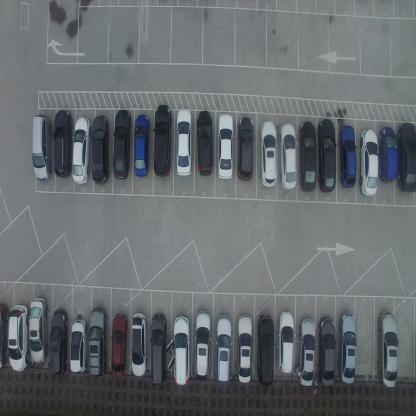car: (376, 310, 398, 388), (52, 109, 74, 178), (152, 104, 172, 178), (7, 304, 29, 371), (31, 113, 52, 182), (317, 117, 336, 193), (337, 312, 357, 384), (72, 114, 92, 184), (298, 121, 317, 193), (113, 108, 132, 180), (88, 306, 107, 378), (28, 296, 48, 364), (317, 315, 336, 386), (49, 308, 69, 375), (256, 313, 274, 387), (259, 120, 278, 189), (193, 310, 211, 382), (360, 126, 378, 198), (150, 311, 167, 387), (172, 316, 190, 387), (298, 316, 316, 387), (397, 122, 415, 193), (91, 114, 109, 184), (279, 121, 297, 190), (236, 312, 253, 384), (196, 110, 214, 178), (110, 312, 128, 379), (215, 314, 232, 384), (175, 107, 192, 177), (277, 309, 295, 375), (236, 116, 254, 182), (338, 124, 356, 188), (378, 125, 397, 184), (133, 113, 150, 178), (217, 113, 233, 181), (130, 312, 146, 379), (69, 318, 87, 375), (0, 301, 9, 370)
